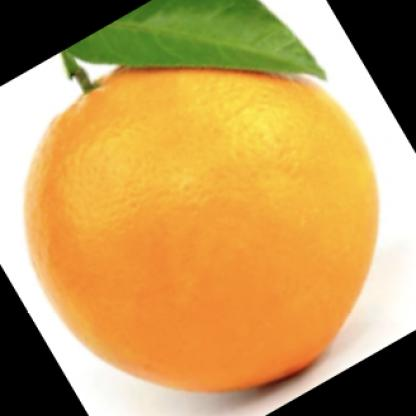orange: (18, 47, 380, 396)
